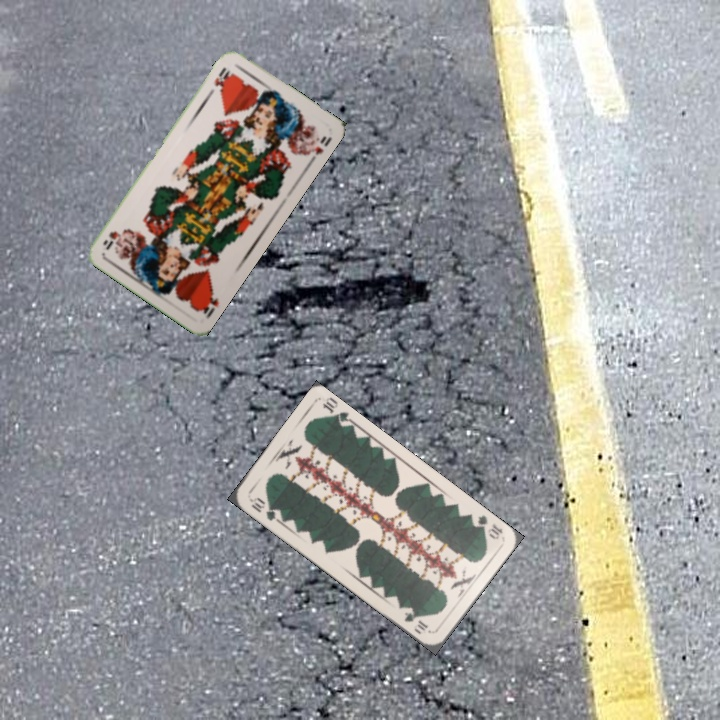G10: (246, 493, 281, 524), (473, 511, 505, 542)
HO: (194, 285, 221, 317), (210, 63, 235, 94)
